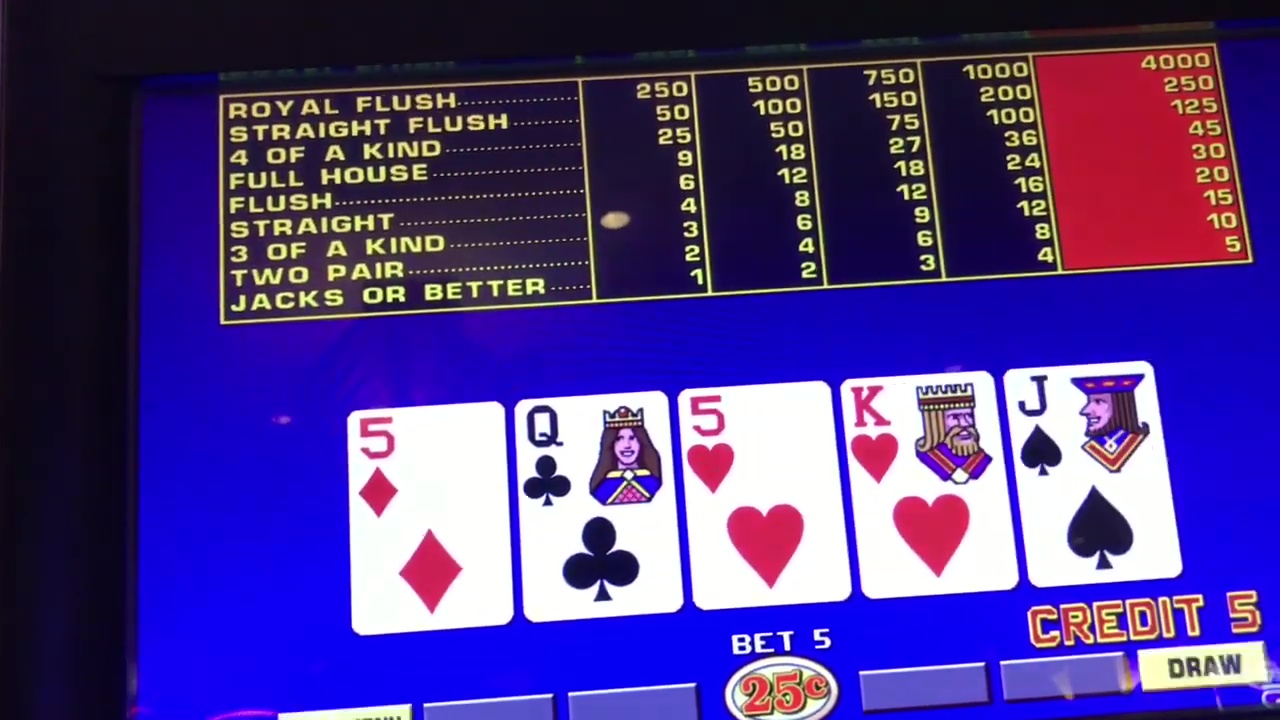CQ: (523, 396, 671, 506)
D5: (358, 406, 497, 517)
H5: (685, 390, 832, 495)
HK: (855, 374, 994, 485)
SJ: (1023, 370, 1150, 472)
